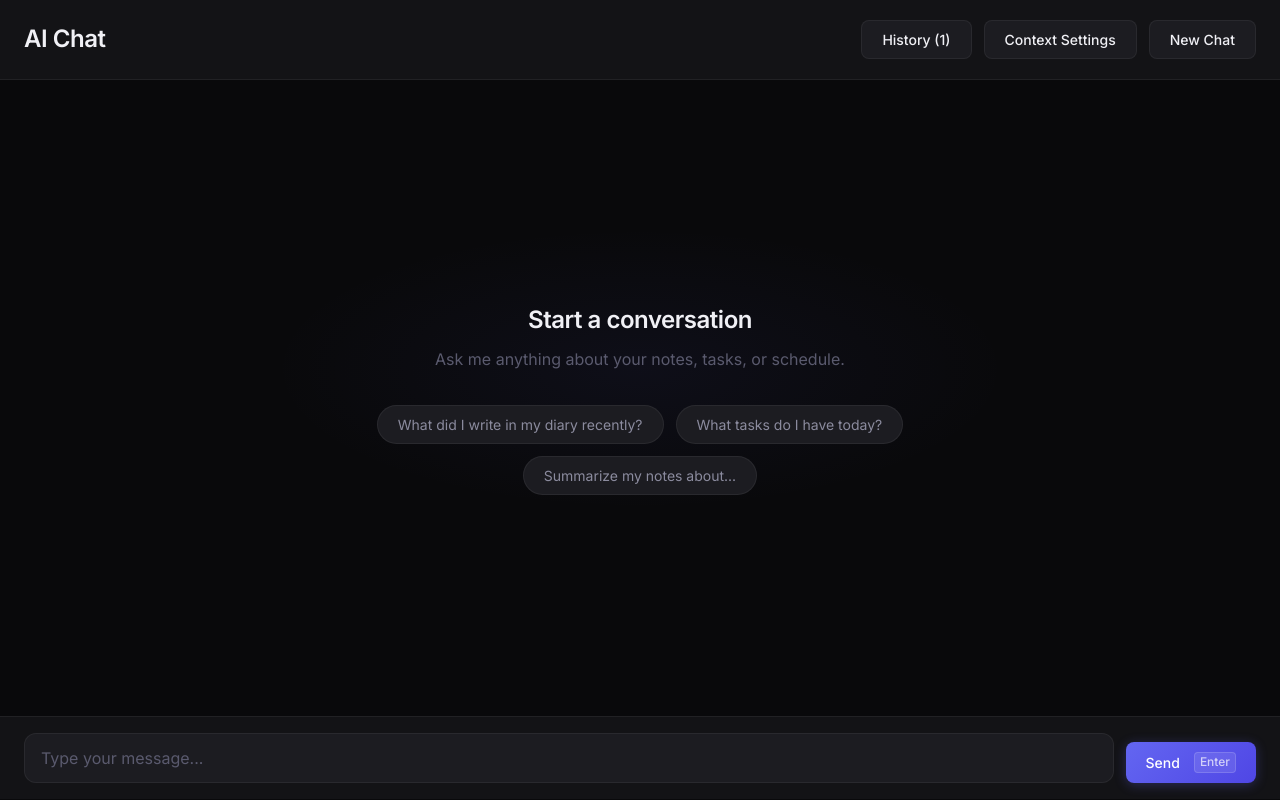
Test: Conversation History › displays conversation list in history panel
This screenshot has width=1280, height=800.
Click the button "History (1)": (916, 40) [861,20,972,59]
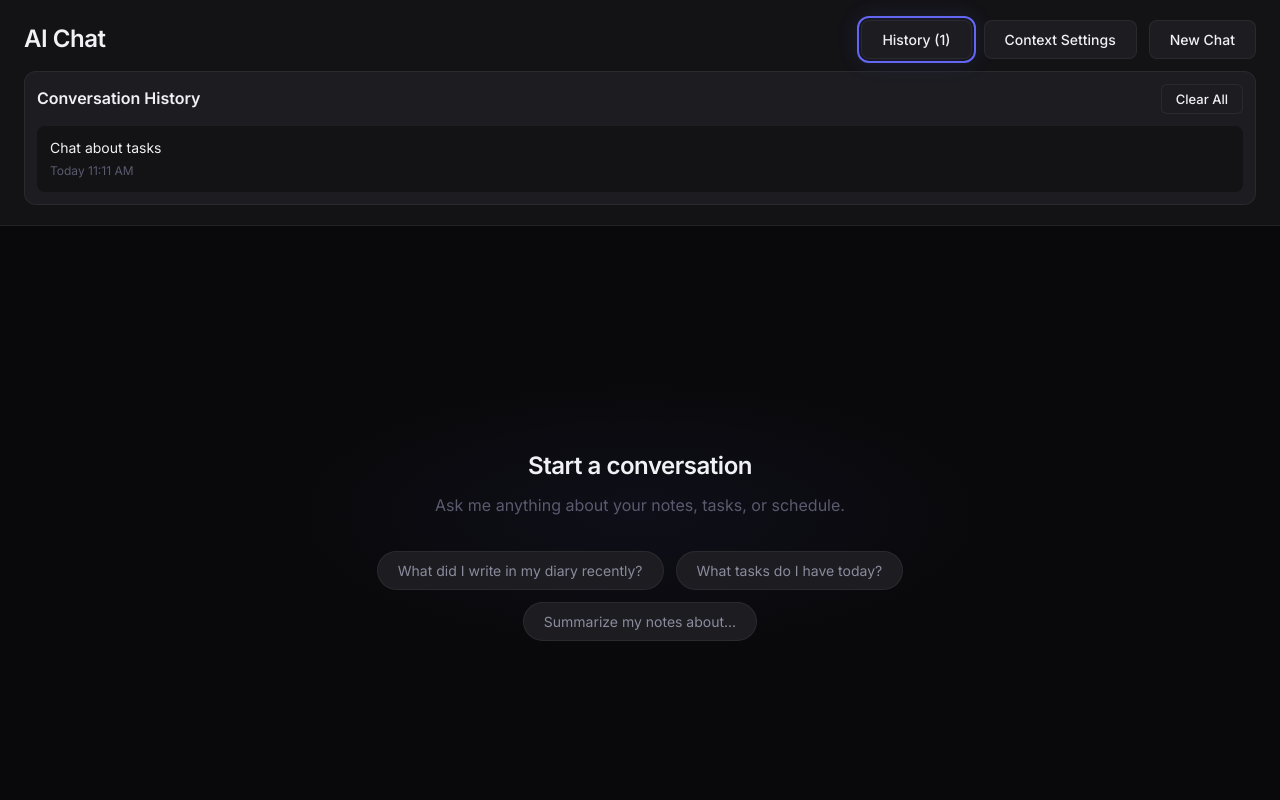
Expected: the text "Chat about tasks" is shown, [50,139,162,156]
